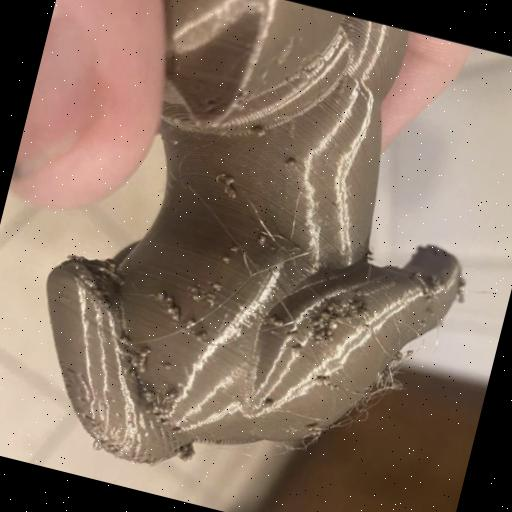blobs: (304, 418, 326, 439), (178, 442, 198, 464), (221, 184, 240, 203), (181, 314, 199, 332), (312, 326, 330, 344), (268, 313, 286, 331), (186, 280, 203, 298), (115, 330, 130, 350), (252, 122, 268, 140), (206, 278, 222, 294), (307, 316, 323, 332), (264, 394, 280, 410), (317, 374, 333, 390), (162, 388, 178, 404), (193, 327, 208, 343), (227, 240, 241, 257), (358, 303, 372, 320), (284, 156, 300, 170), (139, 345, 154, 359), (328, 319, 342, 333), (162, 360, 176, 374), (204, 289, 218, 302), (206, 295, 218, 310), (135, 361, 150, 373), (220, 253, 232, 266), (351, 284, 364, 296), (256, 234, 268, 246), (320, 308, 332, 320), (190, 292, 201, 302)
stringing: (375, 358, 403, 392), (272, 436, 298, 458), (358, 389, 381, 412), (342, 404, 365, 427), (298, 432, 316, 454)
